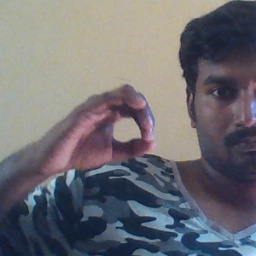O: (36, 83, 160, 180)
